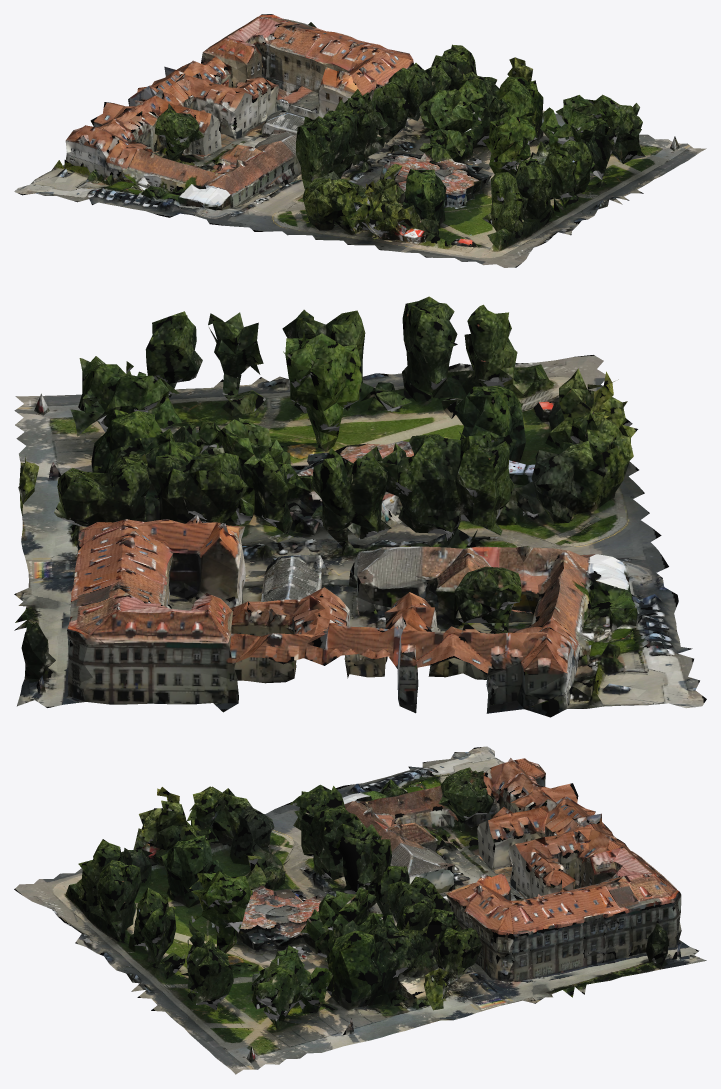
File: PavilJonas.gltf
3 renders of one model, top to bottom at view 1: azimuth 30°, elevation 25°; view 2: azimuth 150°, elevation 25°; view 3: azimuth 270°, elevation 25°, orthographic. The views are drawn at different scales.
Parts seen in each view (by area): view 1: parkas; view 2: parkas; view 3: parkas.
Part boxes in pixels (<box>): parkas: <box>14,14,706,267</box>; parkas: <box>14,296,706,717</box>; parkas: <box>14,746,706,1074</box>.
Size of the model in its own units: 6.76 by 1.03 by 6.34.
Materials: 1 (1 with a texture image).
